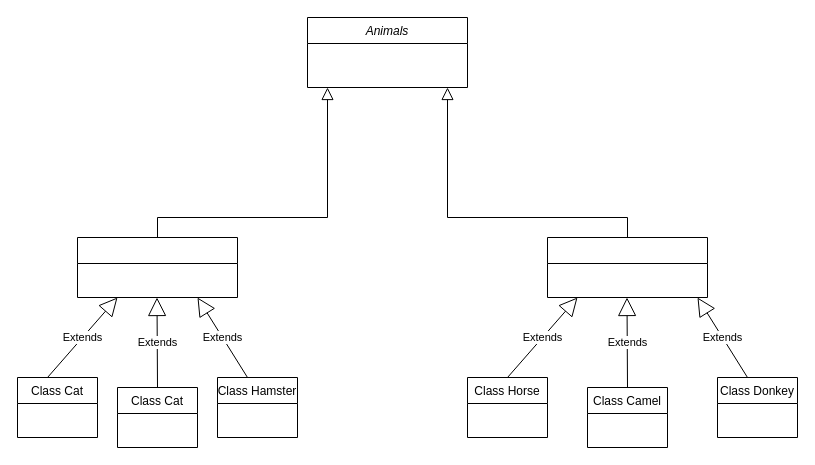
The diagram is 815 pixels wide and 465 high, and some of its shapes have lost their labels. Each missing label, with the centre of its shape:
Class homeAnimals: point (157, 267)
Class packedAnimals: point (627, 267)
